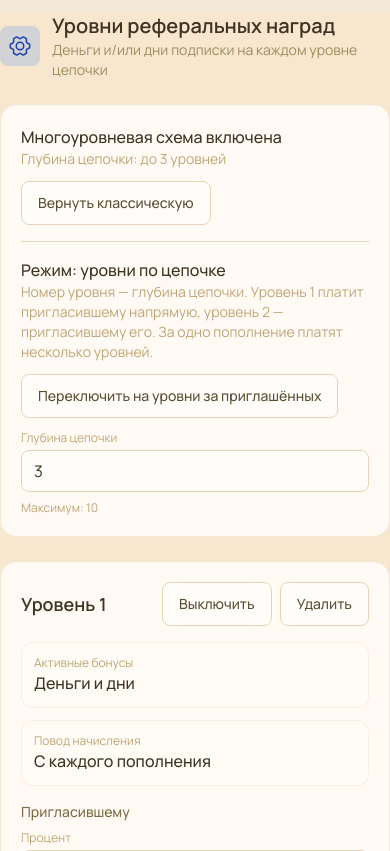
Test: глубина цепочки › не принимает больше, чем можно завести уровней
Replace the text in the field labelled "Глубина цепочки" with "11" at point(195, 471), box [21,450,369,492]
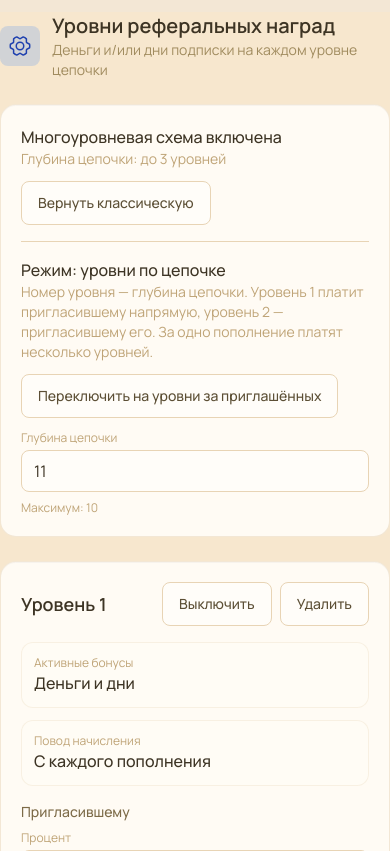
Leave the field labelled "Глубина цепочки", box [21,450,369,492]
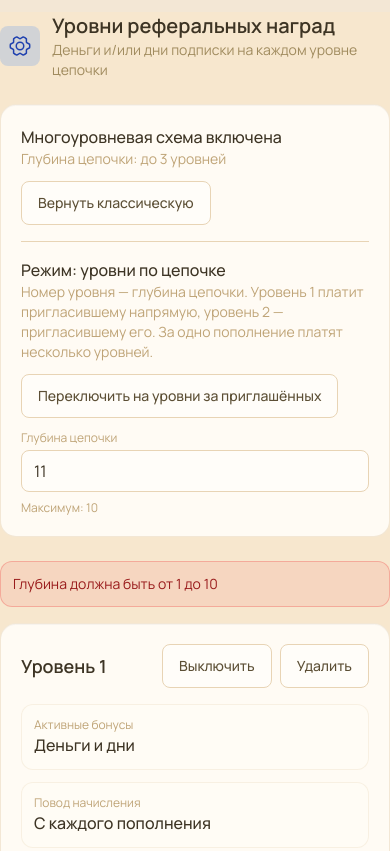
Check: the text "Глубина должна быть от 1 до 10" is shown, box [0,561,389,607]
